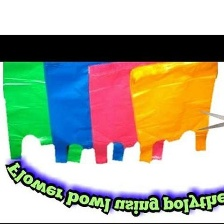plastic_bag: (126, 60, 222, 169), (85, 57, 171, 174), (0, 59, 90, 167), (40, 58, 129, 164)
